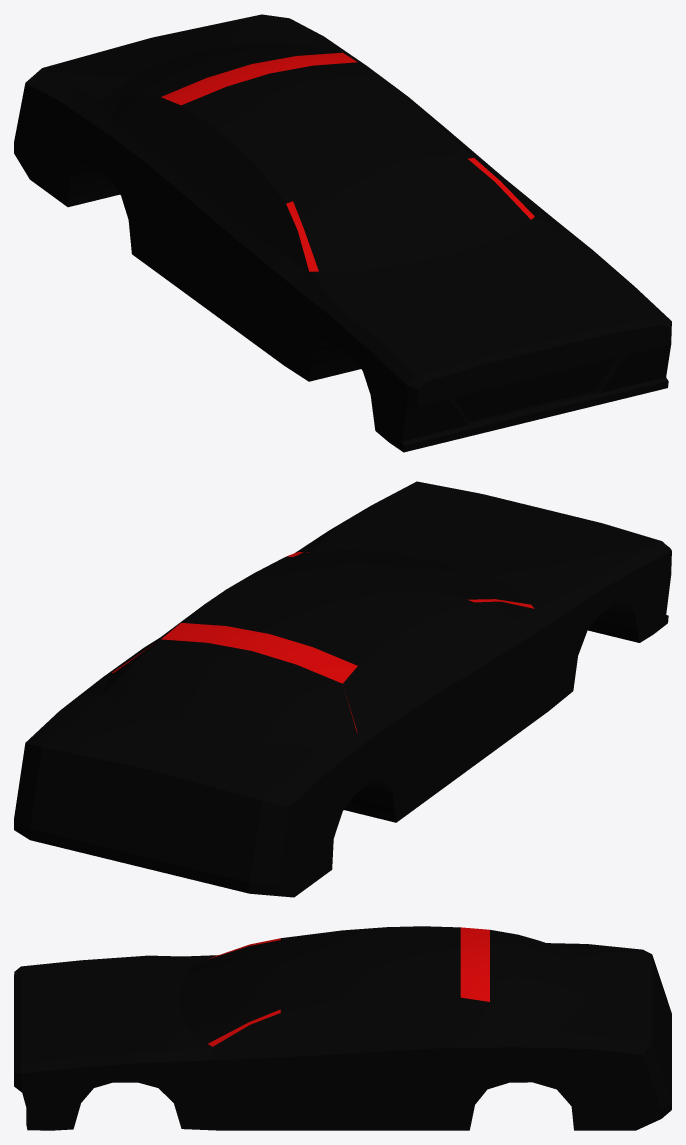
File: Body_0.fbx
The picture shows the model from 3 angles, top to bottom: view 1: azimuth 30°, elevation 25°; view 2: azimuth 150°, elevation 25°; view 3: azimuth 270°, elevation 25°; orthographic projection. The views are drawn at different scales.
Parts seen in each view (by area): view 1: Body; view 2: Body; view 3: Body.
Part boxes in pixels (box(x1,y1,x2,y2)): Body: box(14, 14, 671, 452); Body: box(14, 481, 671, 897); Body: box(14, 926, 671, 1130).
Size of the model in its own units: 1.68 by 0.9279 by 4.45.
